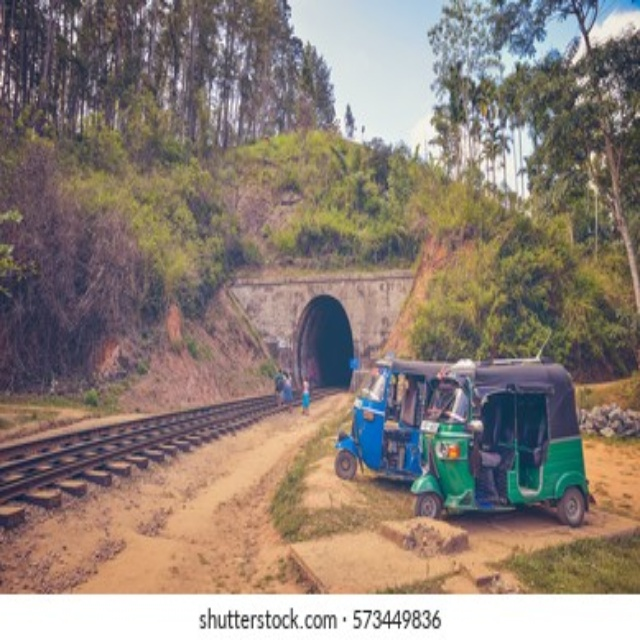Motorcycle: (408, 363, 592, 528), (334, 359, 436, 482)
